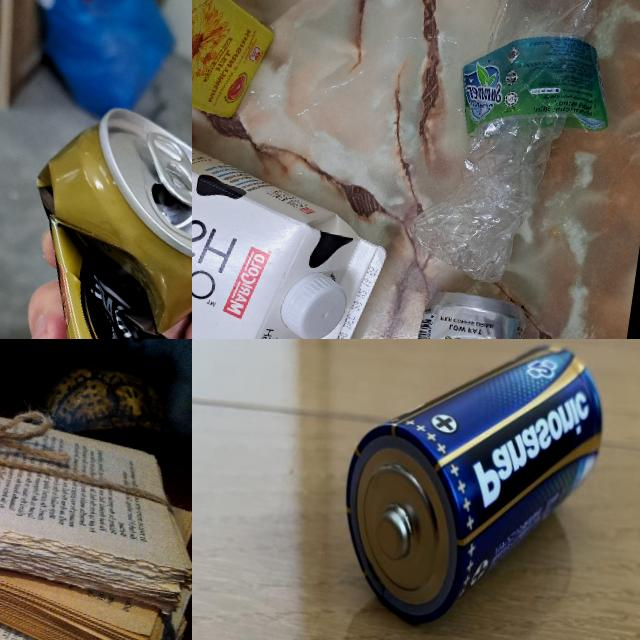aba de lata: (136, 129, 192, 209)
bateria: (325, 339, 616, 640)
caixinha: (192, 136, 398, 339), (192, 0, 283, 125)
garrafa plástica: (401, 0, 629, 296)
lata: (0, 95, 192, 339), (396, 287, 559, 339)
papel: (0, 363, 192, 640)
tampa plástica: (279, 271, 348, 339)
